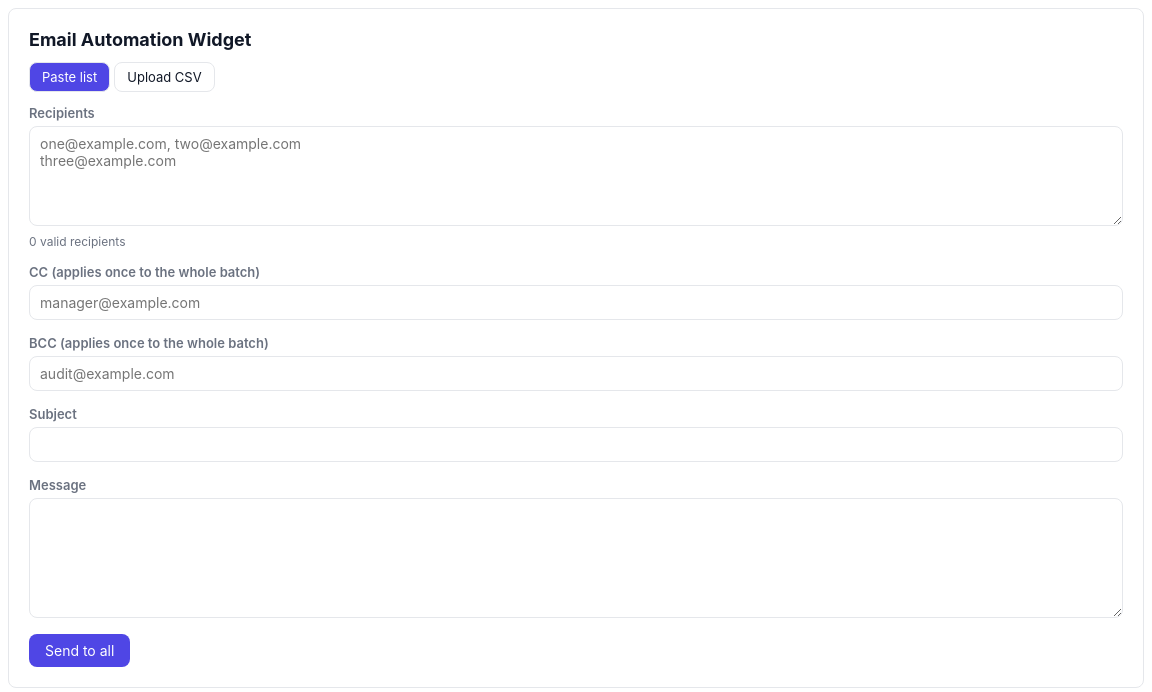
Test: EmailAutomationWidget (bulk mode) › blocks submit and shows errors when there are no valid recipients, subject, or body
Click the button "Send to all".
click(80, 650)  # box [29,634,130,667]
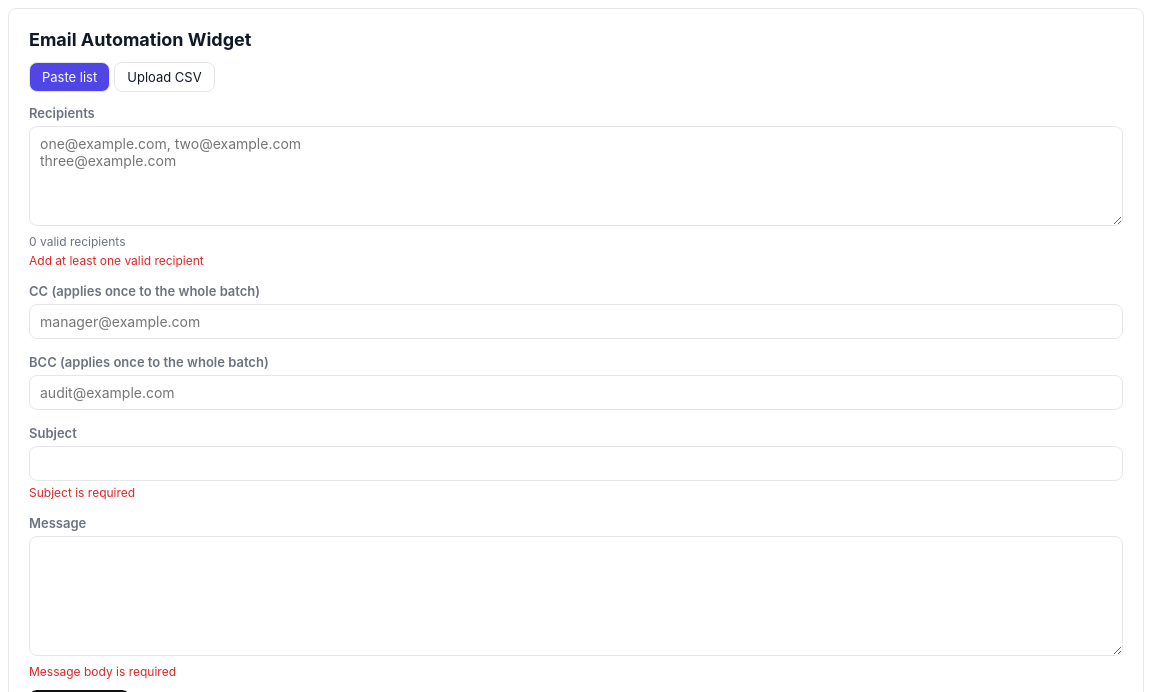
Check: the text "Add at least one valid recipient" is shown, box [29,253,204,268]
Check: the text "Subject is required" is shown, box [29,485,135,500]
Check: the text "Message body is required" is shown, box [29,664,176,679]
